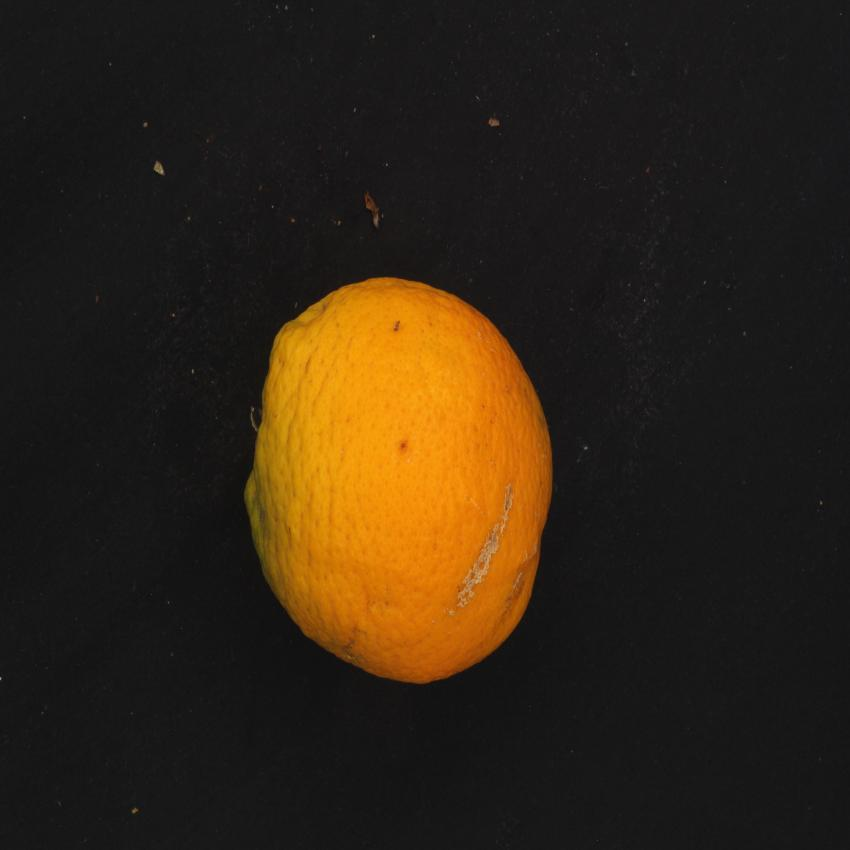Buen estado: (239, 262, 564, 696)
